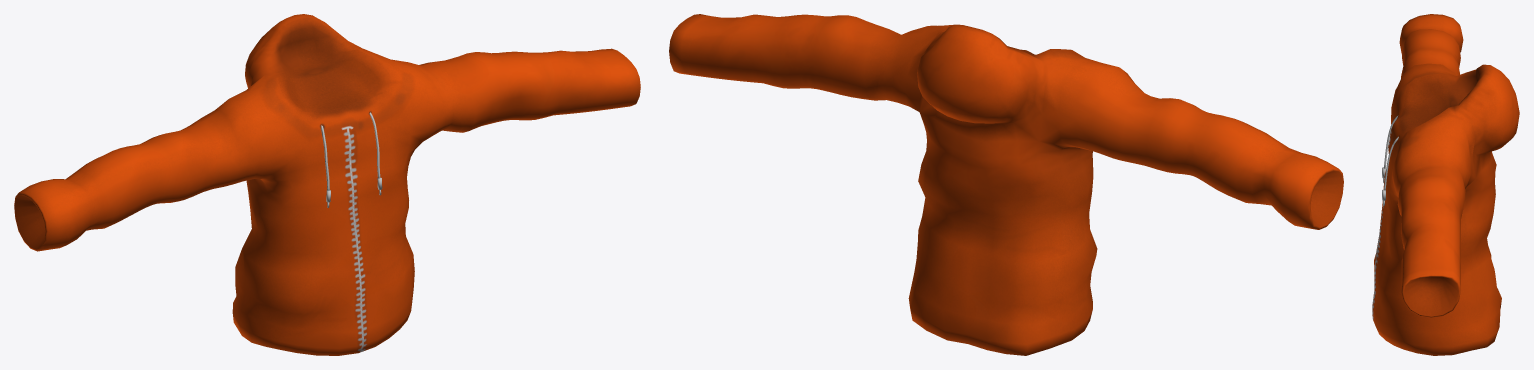
Rendered from garment.glb.
3 views of the same model, side by side, from view 1: azimuth 30°, elevation 25°; view 2: azimuth 150°, elevation 25°; view 3: azimuth 270°, elevation 25° (orthographic). The views are drawn at different scales.
Visible parts, largest first — view 1: sweatshirt; view 2: sweatshirt; view 3: sweatshirt.
Boxes of the visible parts, x1,y1,x2,y2 form: sweatshirt: (14,14,640,355); sweatshirt: (669,14,1343,355); sweatshirt: (1372,14,1519,355).
Bounding box in the file's own units: 1.47 × 0.7005 × 0.3528.
1 material, 1 textured.
